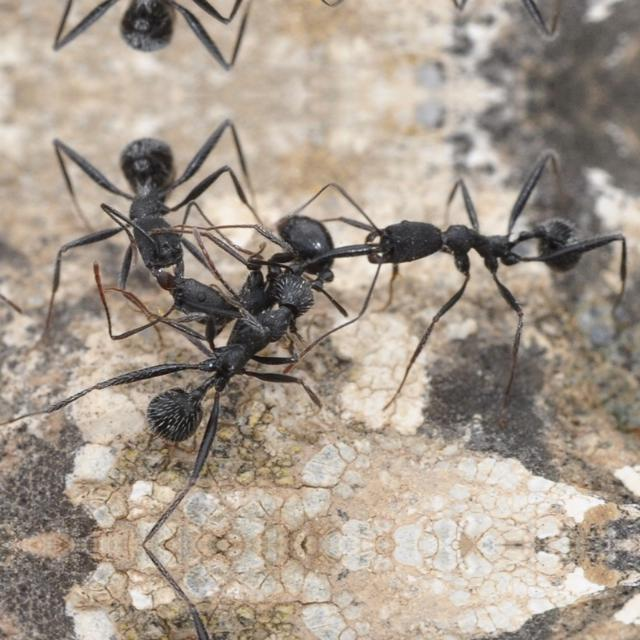Apheanogaster: (94, 167, 374, 476), (336, 175, 622, 302), (58, 114, 236, 306), (56, 0, 235, 72)
